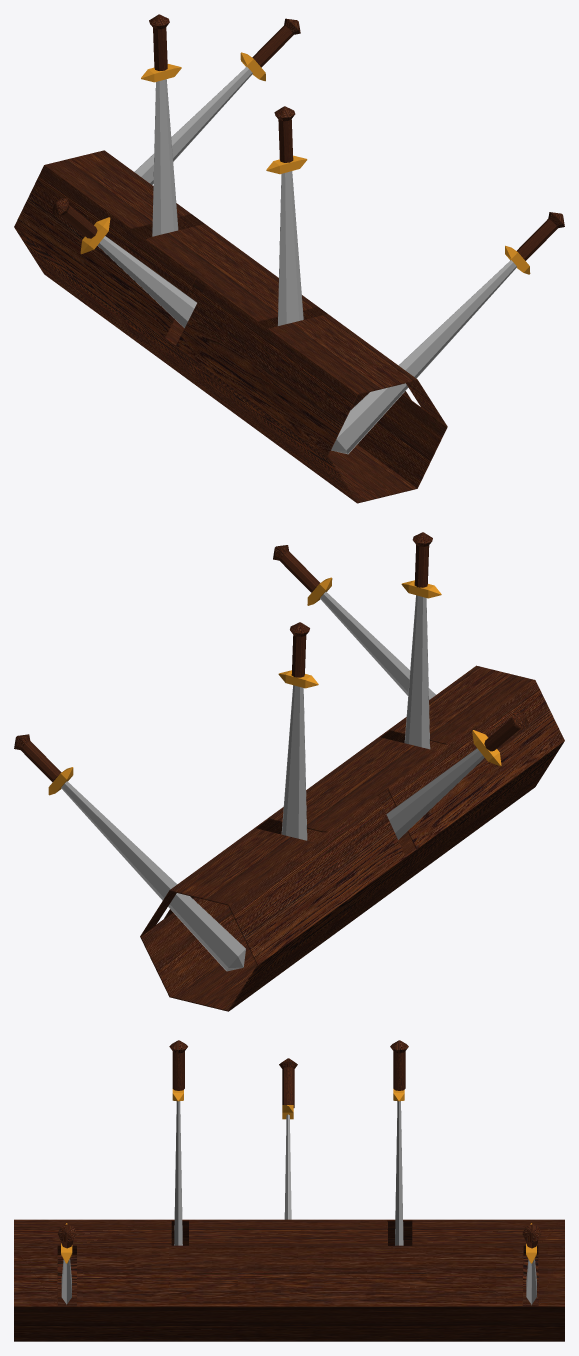
Rendered from SwordRot.fbx.
3 renders of one model, top to bottom at view 1: azimuth 30°, elevation 25°; view 2: azimuth 150°, elevation 25°; view 3: azimuth 270°, elevation 25°, orthographic. The views are drawn at different scales.
Parts seen in each view (by area): view 1: Cylinder.001, Cube, Cube.008, Cube.006, Cube.004, Cube.002, Cylinder, Cylinder.002, Cylinder.004, Cylinder.005, Cylinder.003; view 2: Cylinder.001, Cube.002, Cube.008, Cube.006, Cube.004, Cube, Cylinder.002, Cylinder, Cylinder.004, Cylinder.005, Cylinder.003; view 3: Cylinder.001, Cube.006, Cube.008, Cylinder.004, Cylinder.005, Cylinder.003, Cube.004, Cube.002, Cube.
Part boxes in pixels (left/top/right/bottom): Cylinder.001: left=14, top=150, right=447, bottom=503; Cube: left=331, top=260, right=516, bottom=454; Cube.008: left=152, top=79, right=178, bottom=236; Cube.006: left=277, top=171, right=303, bottom=325; Cube.004: left=97, top=236, right=197, bottom=327; Cube.002: left=134, top=66, right=252, bottom=185; Cylinder: left=517, top=212, right=564, bottom=260; Cylinder.002: left=252, top=18, right=300, bottom=67; Cylinder.004: left=274, top=106, right=295, bottom=162; Cylinder.005: left=149, top=14, right=169, bottom=70; Cylinder.003: left=52, top=198, right=97, bottom=238; Cylinder.001: left=140, top=665, right=564, bottom=1011; Cube.002: left=61, top=781, right=245, bottom=971; Cube.008: left=281, top=685, right=307, bottom=840; Cube.006: left=404, top=595, right=430, bottom=749; Cube.004: left=386, top=748, right=484, bottom=839; Cube: left=320, top=592, right=435, bottom=699; Cylinder.002: left=14, top=734, right=61, bottom=782; Cylinder: left=273, top=545, right=319, bottom=592; Cylinder.004: left=412, top=532, right=432, bottom=587; Cylinder.005: left=290, top=622, right=309, bottom=677; Cylinder.003: left=484, top=711, right=528, bottom=751; Cylinder.001: left=14, top=1219, right=564, bottom=1341; Cube.006: left=174, top=1101, right=182, bottom=1245; Cube.008: left=395, top=1101, right=403, bottom=1245; Cylinder.004: left=169, top=1040, right=187, bottom=1090; Cylinder.005: left=390, top=1040, right=408, bottom=1090; Cylinder.003: left=279, top=1058, right=297, bottom=1107; Cube.004: left=284, top=1114, right=291, bottom=1219; Cube.002: left=526, top=1259, right=536, bottom=1305; Cube: left=61, top=1259, right=71, bottom=1304.
Bounding box in the file's own units: 19.06 × 15.36 × 26.98.
